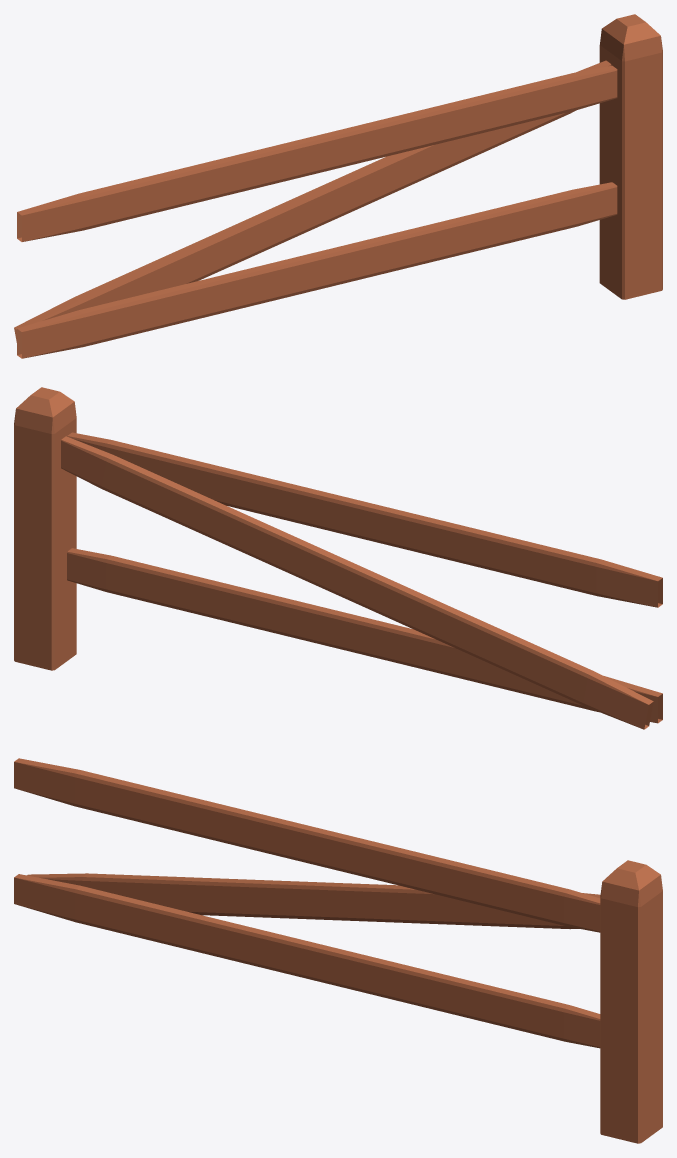
Rendered from houten hek 1 paal.fbx.
3 views of the same model, one above another, from view 1: azimuth 30°, elevation 25°; view 2: azimuth 150°, elevation 25°; view 3: azimuth 330°, elevation 25° (orthographic).
Parts seen in each view (by area): view 1: Cube.005; view 2: Cube.005; view 3: Cube.005.
Part boxes in pixels (x1=…): Cube.005: x1=14, y1=14, x2=662, y2=358; Cube.005: x1=14, y1=387, x2=662, y2=729; Cube.005: x1=14, y1=758, x2=662, y2=1143.
Bounding box in the file's own units: 3 × 0.2 × 1.2.
